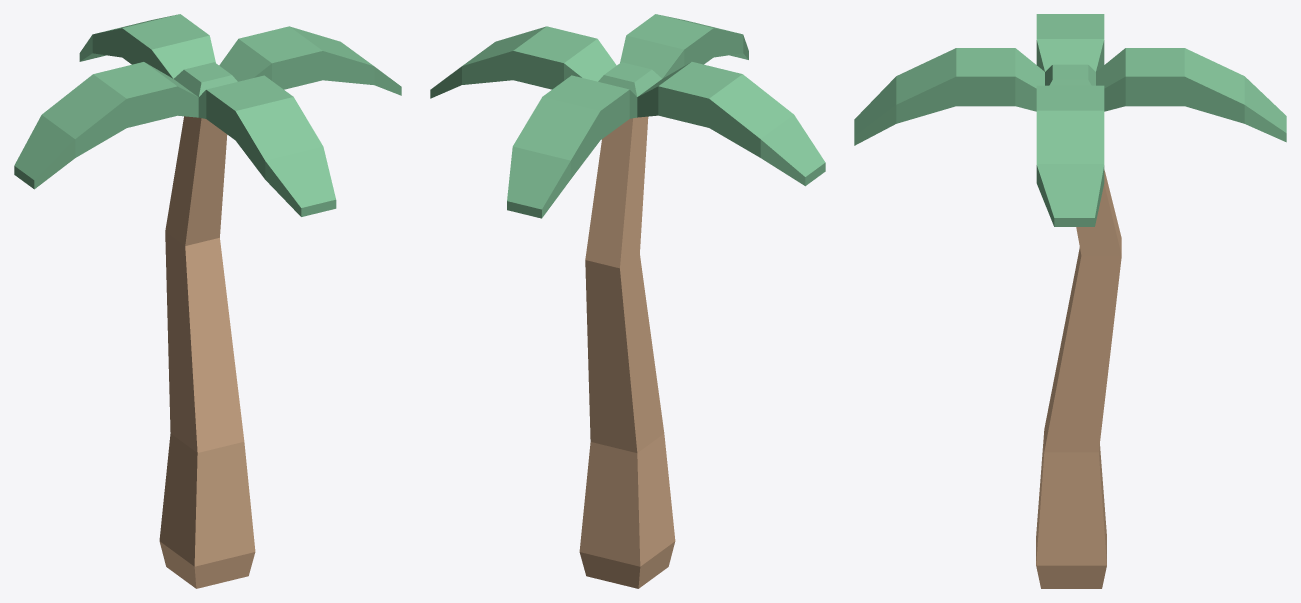
The model's file is palm_long.gltf.
3 renders of one model, left to right at view 1: azimuth 30°, elevation 25°; view 2: azimuth 150°, elevation 25°; view 3: azimuth 270°, elevation 25°, orthographic.
Visible parts, largest first — view 1: Group 30, Group 28; view 2: Group 30, Group 28; view 3: Group 30, Group 28.
Part boxes in pixels (x1=…): Group 30: x1=14, y1=14, x2=401, y2=216; Group 28: x1=159, y1=116, x2=255, y2=588; Group 30: x1=430, y1=14, x2=825, y2=218; Group 28: x1=579, y1=116, x2=675, y2=588; Group 30: x1=854, y1=14, x2=1286, y2=226; Group 28: x1=1036, y1=170, x2=1121, y2=588.
Bounding box in the file's own units: 1.54 × 2.02 × 1.54.
